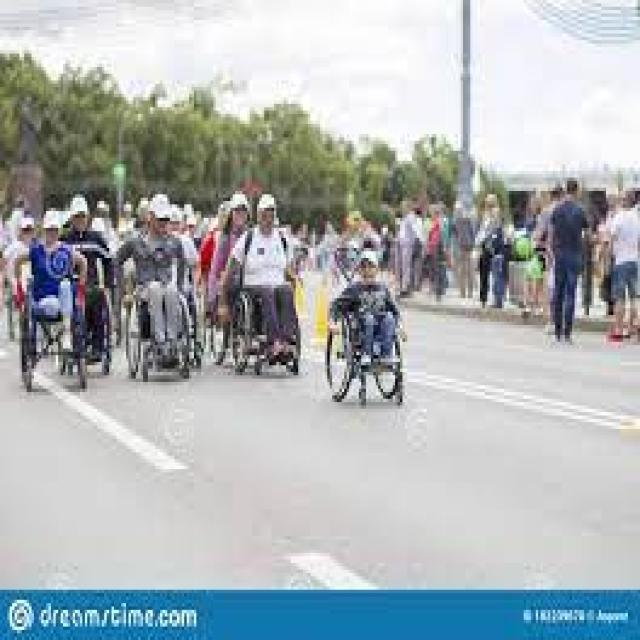wheelchairs: (318, 305, 410, 412), (10, 305, 99, 395), (228, 295, 308, 392)
